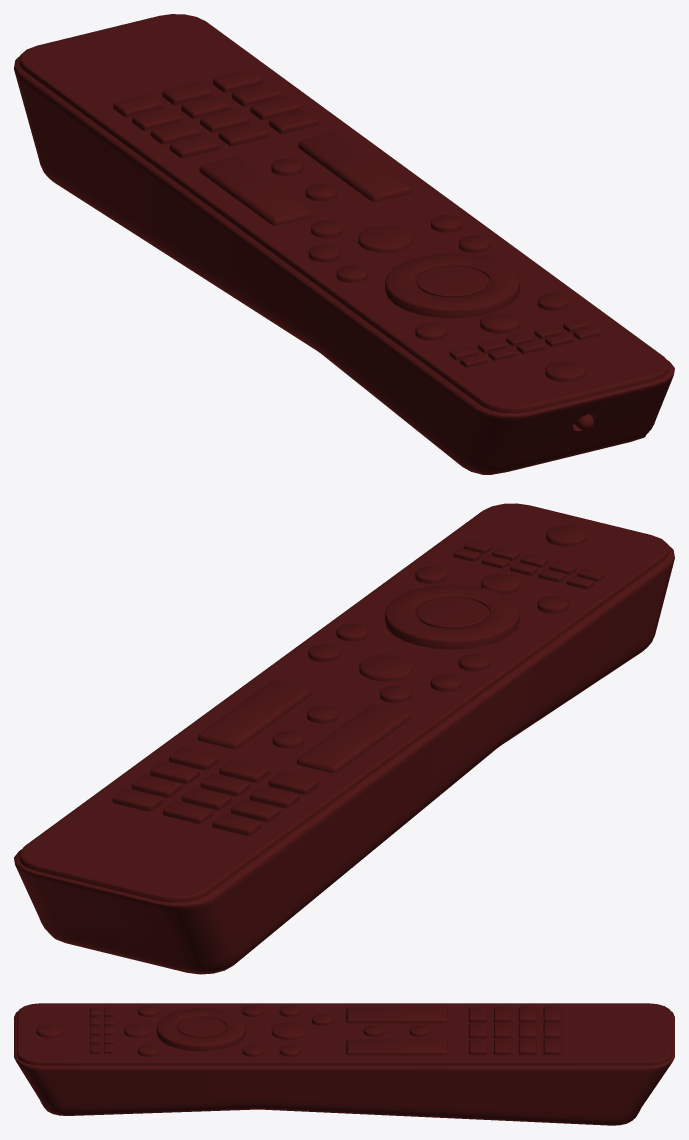
Rendered from Tvremote_Q_isolatedButtons.FBX.
3 views of the same model, one above another, from view 1: azimuth 30°, elevation 25°; view 2: azimuth 150°, elevation 25°; view 3: azimuth 270°, elevation 25° (orthographic). The views are drawn at different scales.
Visible parts, largest first — view 1: Base_low002, Object015, Object022, Object025, Object017, Object026, Object027, Object029, Object036, Object031, Object030, Object032 (+7 smaller); view 2: Base_low002, Object015, Object022, Object025, Object017, Object030, Object028, Object029, Object037, Object034, Object026, Object027 (+6 smaller); view 3: Base_low002, Object015, Object022, Object025, Object017, Object001, Object013, Object033, Object034, Object035, Object036, Object032 (+16 smaller).
Part boxes in pixels (box(x1,y1,x2,y2)): Base_low002: box(14, 14, 674, 474); Object015: box(385, 253, 519, 318); Object022: box(199, 157, 312, 225); Object025: box(298, 133, 411, 201); Object017: box(358, 226, 412, 252); Object026: box(169, 135, 219, 158); Object027: box(218, 123, 268, 146); Object029: box(150, 121, 200, 144); Object036: box(162, 82, 212, 105); Object031: box(250, 97, 299, 120); Object030: box(200, 109, 249, 132); Object032: box(231, 83, 281, 106); Base_low002: box(14, 503, 674, 974); Object015: box(385, 584, 519, 649); Object022: box(296, 704, 410, 773); Object025: box(198, 680, 311, 748); Object017: box(359, 654, 413, 681); Object030: box(200, 773, 250, 796); Object028: box(169, 747, 218, 770); Object029: box(249, 785, 299, 808); Object037: box(112, 789, 162, 811); Object034: box(231, 799, 280, 822); Object026: box(268, 772, 318, 794); Object027: box(219, 760, 268, 782); Base_low002: box(14, 1003, 674, 1125); Object015: box(156, 1008, 245, 1051); Object022: box(346, 1007, 447, 1023); Object025: box(346, 1039, 447, 1055); Object017: box(271, 1022, 307, 1039); Object001: box(36, 1024, 63, 1037); Object013: box(124, 1024, 150, 1037); Object033: box(518, 1023, 536, 1038); Object034: box(518, 1007, 536, 1022); Object035: box(543, 1007, 561, 1022); Object036: box(543, 1023, 561, 1038); Object032: box(518, 1039, 536, 1054).
Bounding box in the file's own units: 6.01 × 26.66 × 3.23.
